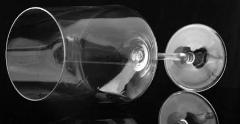glass: (5, 5, 227, 106)
